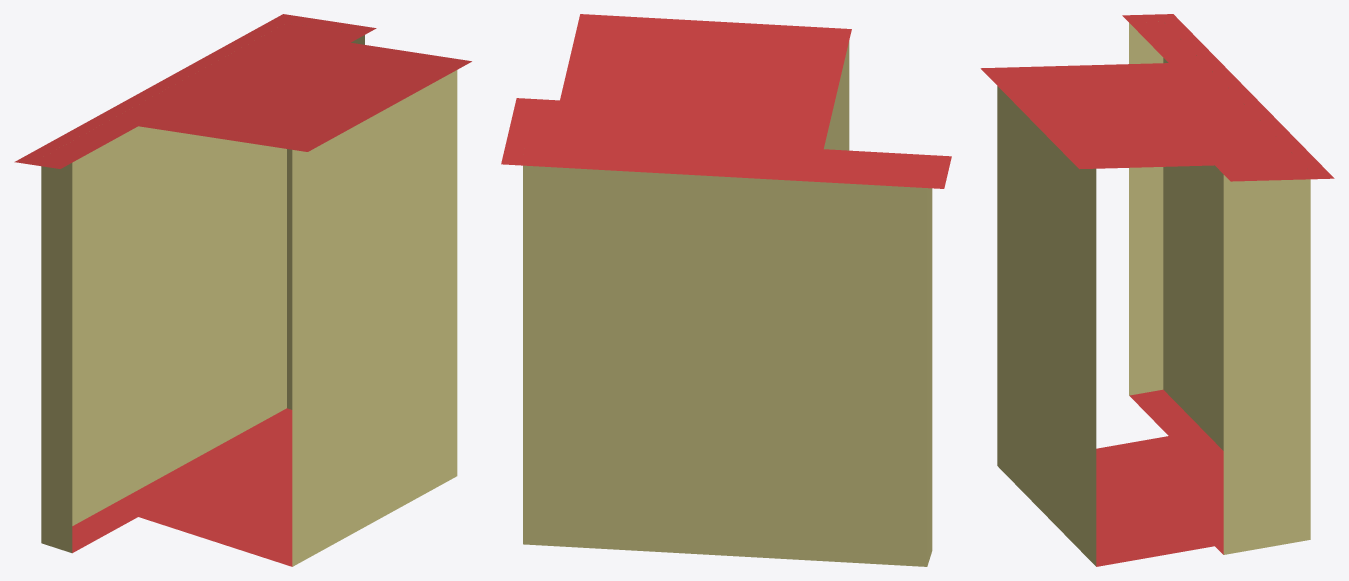
3 renders of one model, left to right at view 1: azimuth 30°, elevation 25°; view 2: azimuth 150°, elevation 25°; view 3: azimuth 270°, elevation 25°, orthographic. The views are drawn at different scales.
Size of the model in its own units: 6.08 by 4.78 by 5.97.
